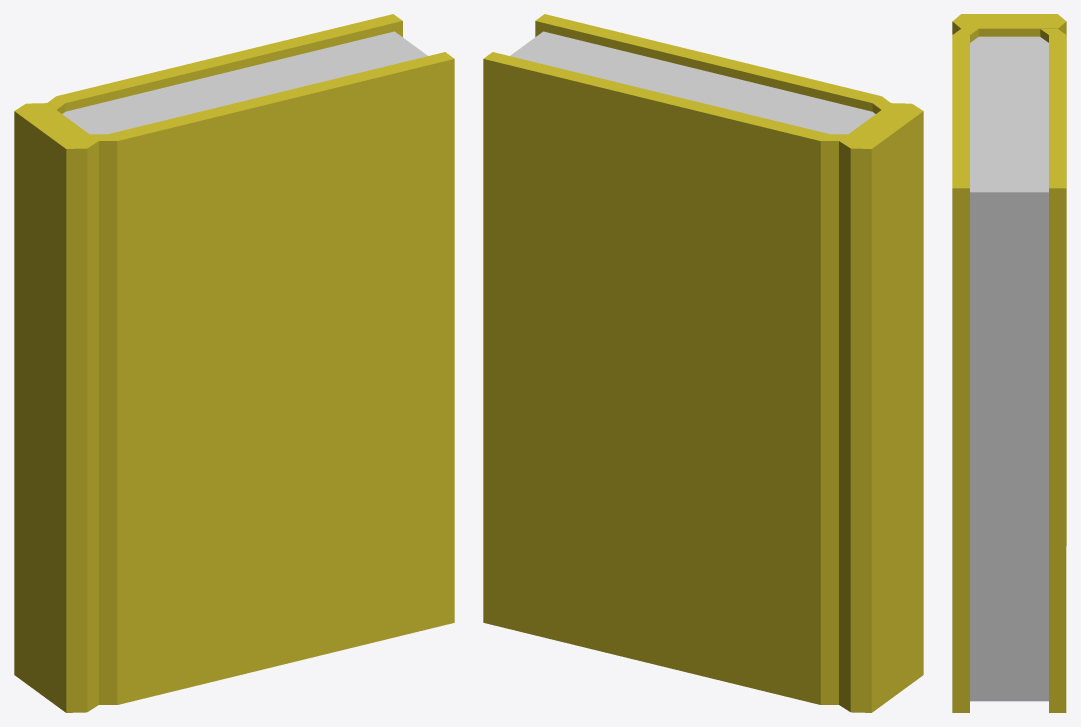
3 renders of one model, left to right at view 1: azimuth 30°, elevation 25°; view 2: azimuth 150°, elevation 25°; view 3: azimuth 270°, elevation 25°, orthographic. The views are drawn at different scales.
Visible parts, largest first — view 1: node_MeshObject-970407296-PolyPaper21; view 2: node_MeshObject-970407296-PolyPaper21; view 3: node_MeshObject-970407296-PolyPaper21.
Boxes of the visible parts, x1=… form: node_MeshObject-970407296-PolyPaper21: x1=14, y1=14, x2=454, y2=712; node_MeshObject-970407296-PolyPaper21: x1=483, y1=14, x2=923, y2=712; node_MeshObject-970407296-PolyPaper21: x1=952, y1=14, x2=1066, y2=712.
Bounding box in the file's own units: 0.47 × 0.66 × 0.13.
